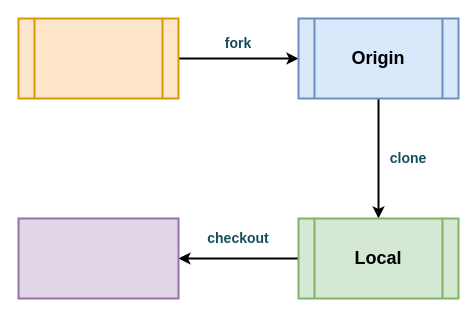
The diagram is 476 pixels wide and 316 high, and some of its shapes have lost their labels. Here are the shapes that lost their labels. From the top down, the centre of each, then its label:
the point at 98,58: Upstream
the point at 98,258: Working Directory
